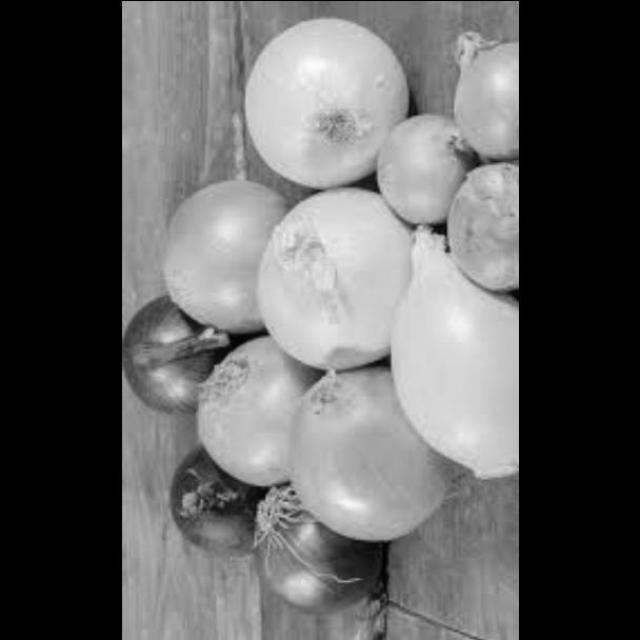cu hanh: (381, 220, 518, 477), (253, 177, 410, 379), (279, 360, 447, 544), (242, 22, 413, 193), (244, 479, 398, 639), (187, 342, 320, 504), (151, 176, 272, 337), (120, 284, 229, 417), (154, 436, 258, 562), (371, 114, 465, 227), (438, 159, 518, 289), (443, 34, 517, 166)
